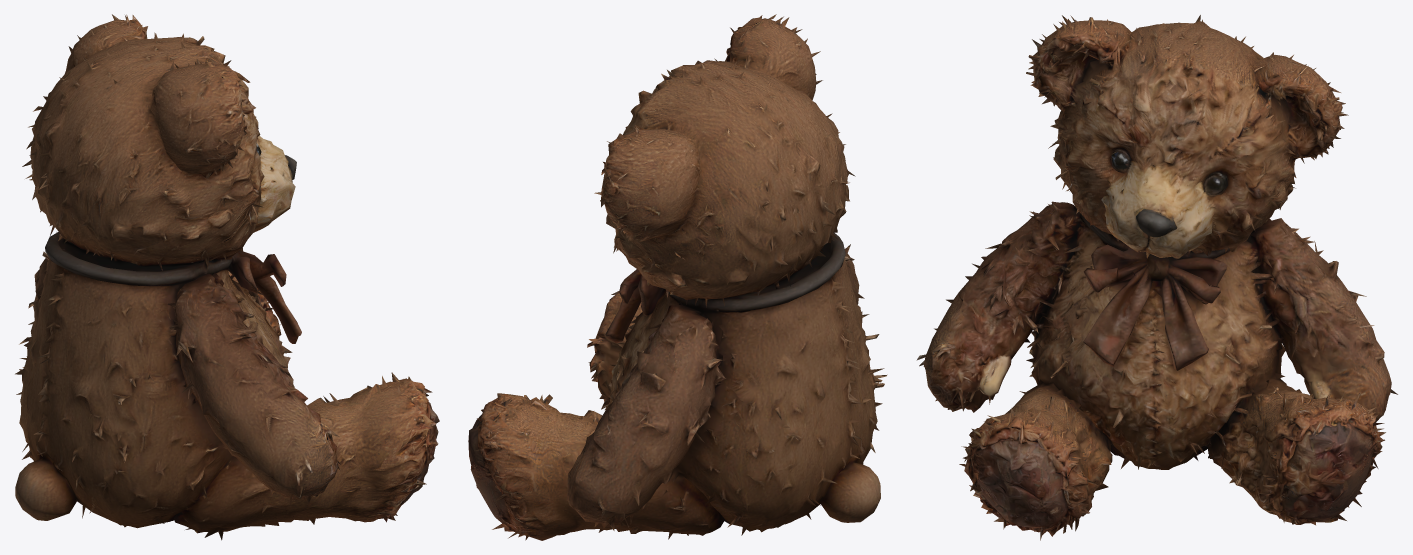
3 views of the same model, side by side, from view 1: azimuth 30°, elevation 25°; view 2: azimuth 150°, elevation 25°; view 3: azimuth 270°, elevation 25° (orthographic). The views are drawn at different scales.
Parts seen in each view (by area): view 1: tripo_node_cdf0dd04-b9de-4a40-8833-074e489804d2; view 2: tripo_node_cdf0dd04-b9de-4a40-8833-074e489804d2; view 3: tripo_node_cdf0dd04-b9de-4a40-8833-074e489804d2.
Part boxes in pixels (x1=…): tripo_node_cdf0dd04-b9de-4a40-8833-074e489804d2: x1=15, y1=14, x2=439, y2=540; tripo_node_cdf0dd04-b9de-4a40-8833-074e489804d2: x1=468, y1=14, x2=887, y2=540; tripo_node_cdf0dd04-b9de-4a40-8833-074e489804d2: x1=916, y1=15, x2=1397, y2=540.
Bounding box in the file's own units: 0.7796 × 1 × 0.9781.
Materials: 1 (1 with a texture image).
